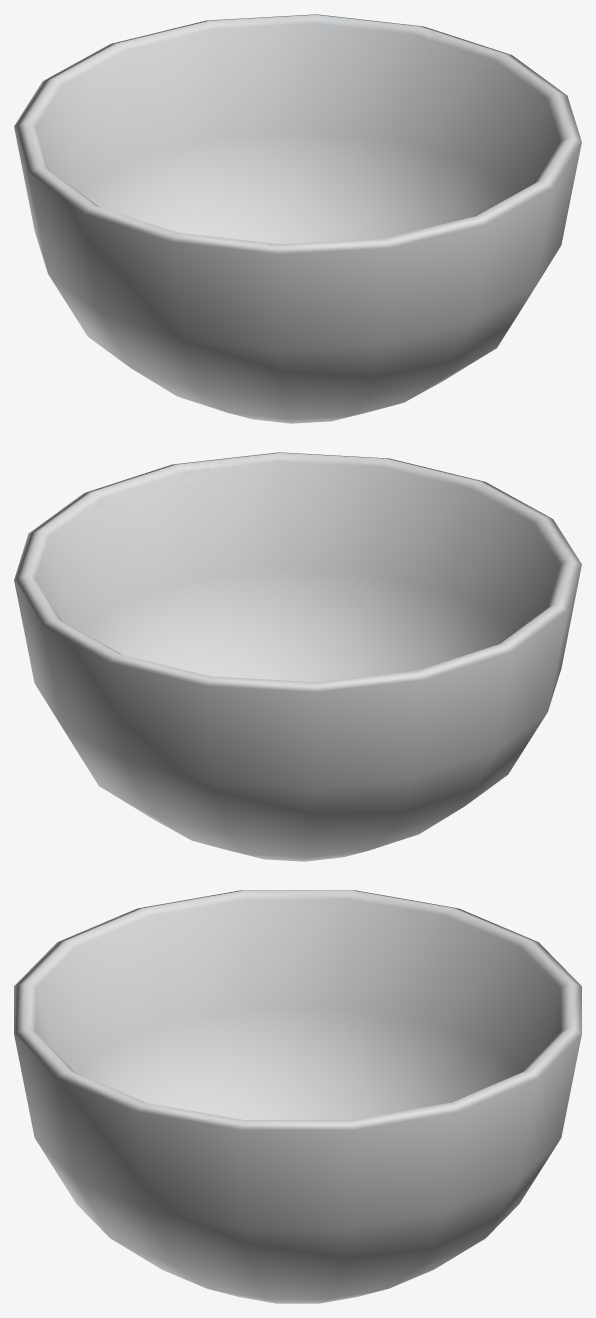
File: M_Mangkok.fbx
3 views of the same model, one above another, from view 1: azimuth 30°, elevation 25°; view 2: azimuth 150°, elevation 25°; view 3: azimuth 270°, elevation 25° (orthographic).
Parts seen in each view (by area): view 1: Bowl.003; view 2: Bowl.003; view 3: Bowl.003.
Part boxes in pixels (x1,y1,x2,y2): Bowl.003: (14, 14, 581, 423); Bowl.003: (14, 452, 581, 861); Bowl.003: (14, 890, 581, 1303).
Size of the model in its own units: 19.92 by 9.85 by 19.92.
